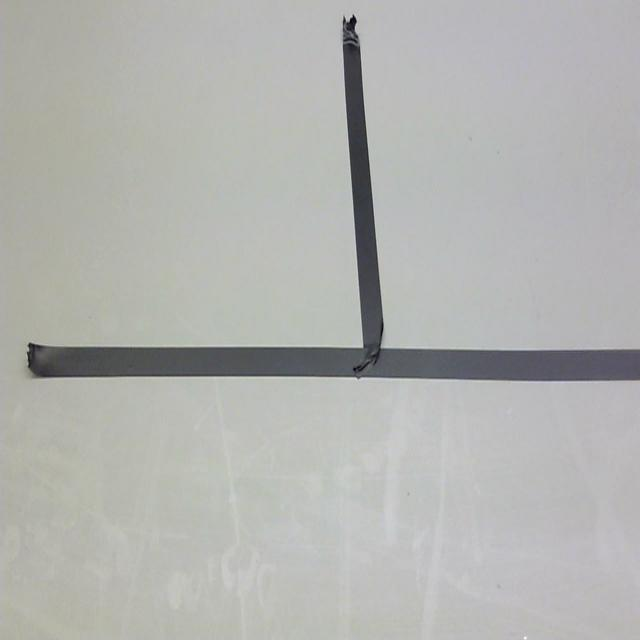tape: (20, 8, 640, 406)
